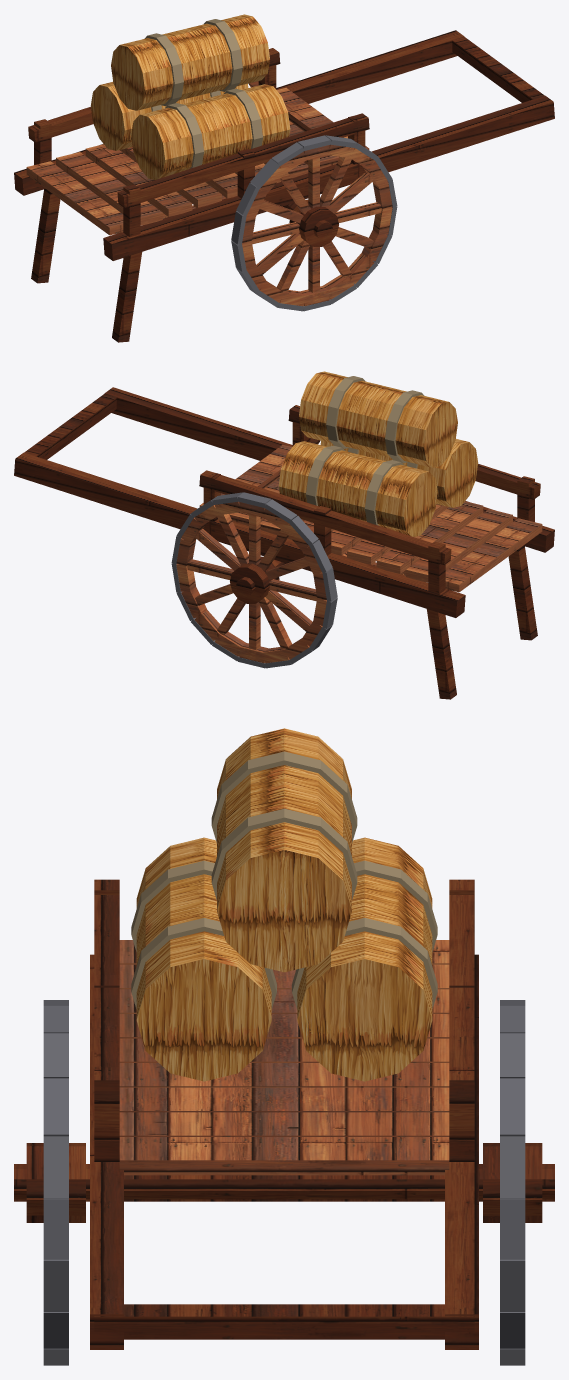
File: edo_handcart.glb
3 renders of one model, top to bottom at view 1: azimuth 30°, elevation 25°; view 2: azimuth 150°, elevation 25°; view 3: azimuth 270°, elevation 25°, orthographic. The views are drawn at different scales.
Visible parts, largest first — view 1: handcart_frame, handcart_cedar, handcart_bales, handcart_iron, handcart_rope; view 2: handcart_frame, handcart_cedar, handcart_bales, handcart_iron, handcart_rope; view 3: handcart_bales, handcart_frame, handcart_cedar, handcart_iron, handcart_rope.
Boxes of the visible parts, x1,y1,x2,y2 form: handcart_frame: (14,30,554,342); handcart_cedar: (26,81,392,306); handcart_bales: (90,14,290,179); handcart_iron: (163,135,397,311); handcart_rope: (144,19,262,168); handcart_frame: (14,387,554,699); handcart_cedar: (176,438,542,663); handcart_bales: (278,371,478,536); handcart_iron: (171,492,405,668); handcart_rope: (306,376,424,525); handcart_bales: (136,728,432,1081); handcart_frame: (14,879,554,1349); handcart_cedar: (119,940,449,1175); handcart_iron: (43,1000,525,1365); handcart_rope: (131,751,437,1009).
Bounding box in the file's own units: 2.41 × 1.32 × 1.28.
5 materials, 3 textured.
